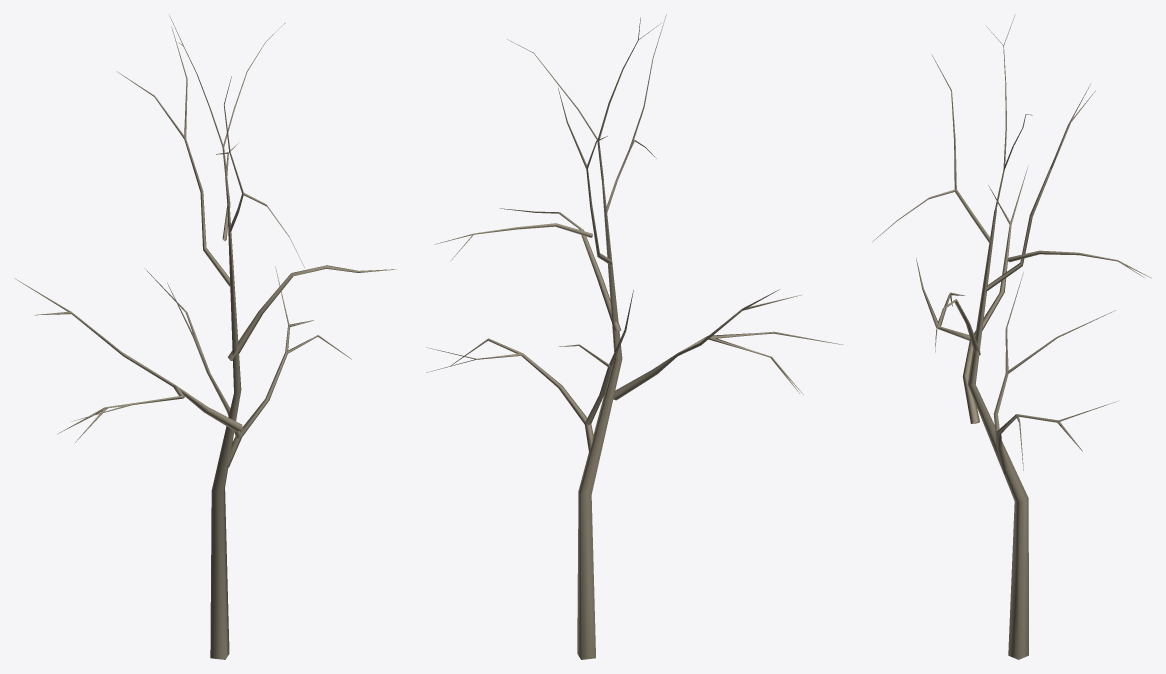
File: SadTrunk.fbx
3 views of the same model, side by side, from view 1: azimuth 30°, elevation 25°; view 2: azimuth 150°, elevation 25°; view 3: azimuth 270°, elevation 25° (orthographic). The views are drawn at different scales.
Parts seen in each view (by area): view 1: SadTrunk; view 2: SadTrunk; view 3: SadTrunk.
Part boxes in pixels (bbox=[...]): SadTrunk: bbox=[14, 14, 396, 659]; SadTrunk: bbox=[426, 14, 843, 659]; SadTrunk: bbox=[872, 14, 1151, 659].
Size of the model in its own units: 495 by 915 by 376.
